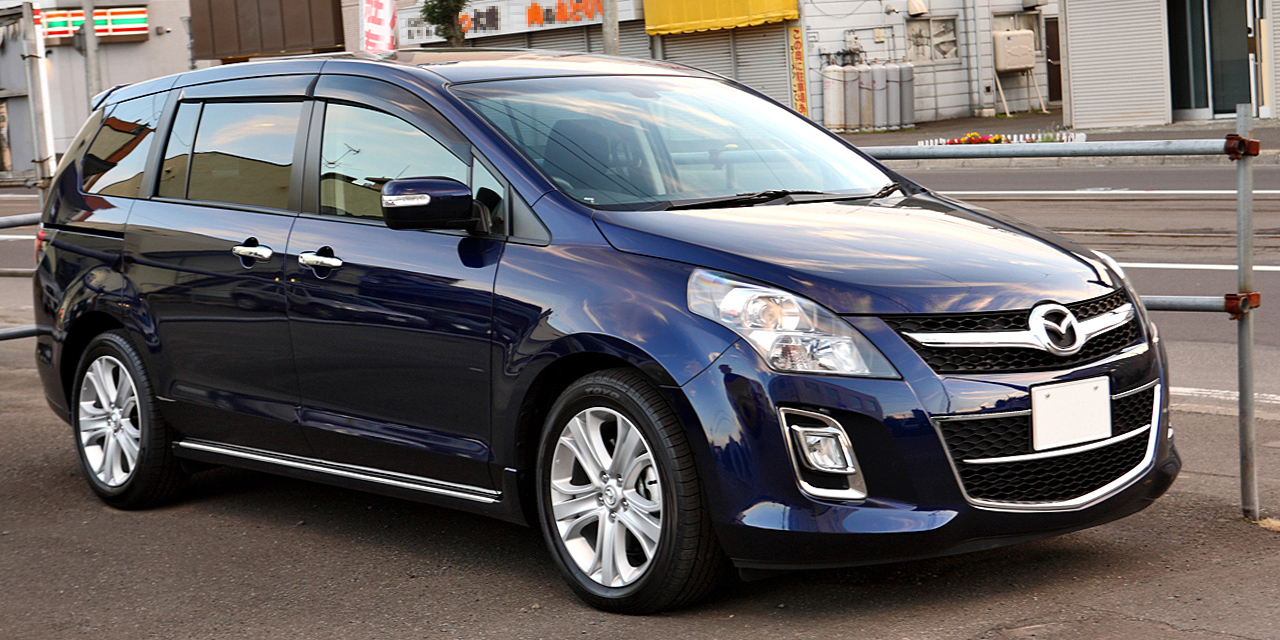car: (33, 48, 1182, 615)
